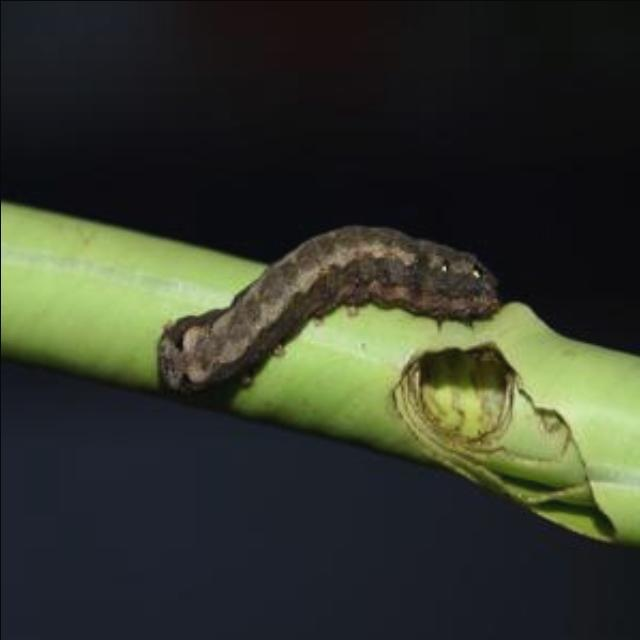Tobacco cutworm: (131, 172, 555, 448)
